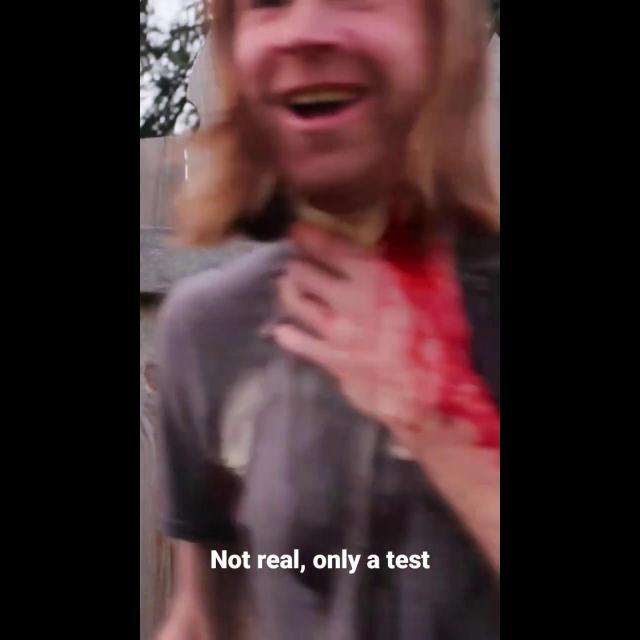blood: (387, 248, 500, 449)
